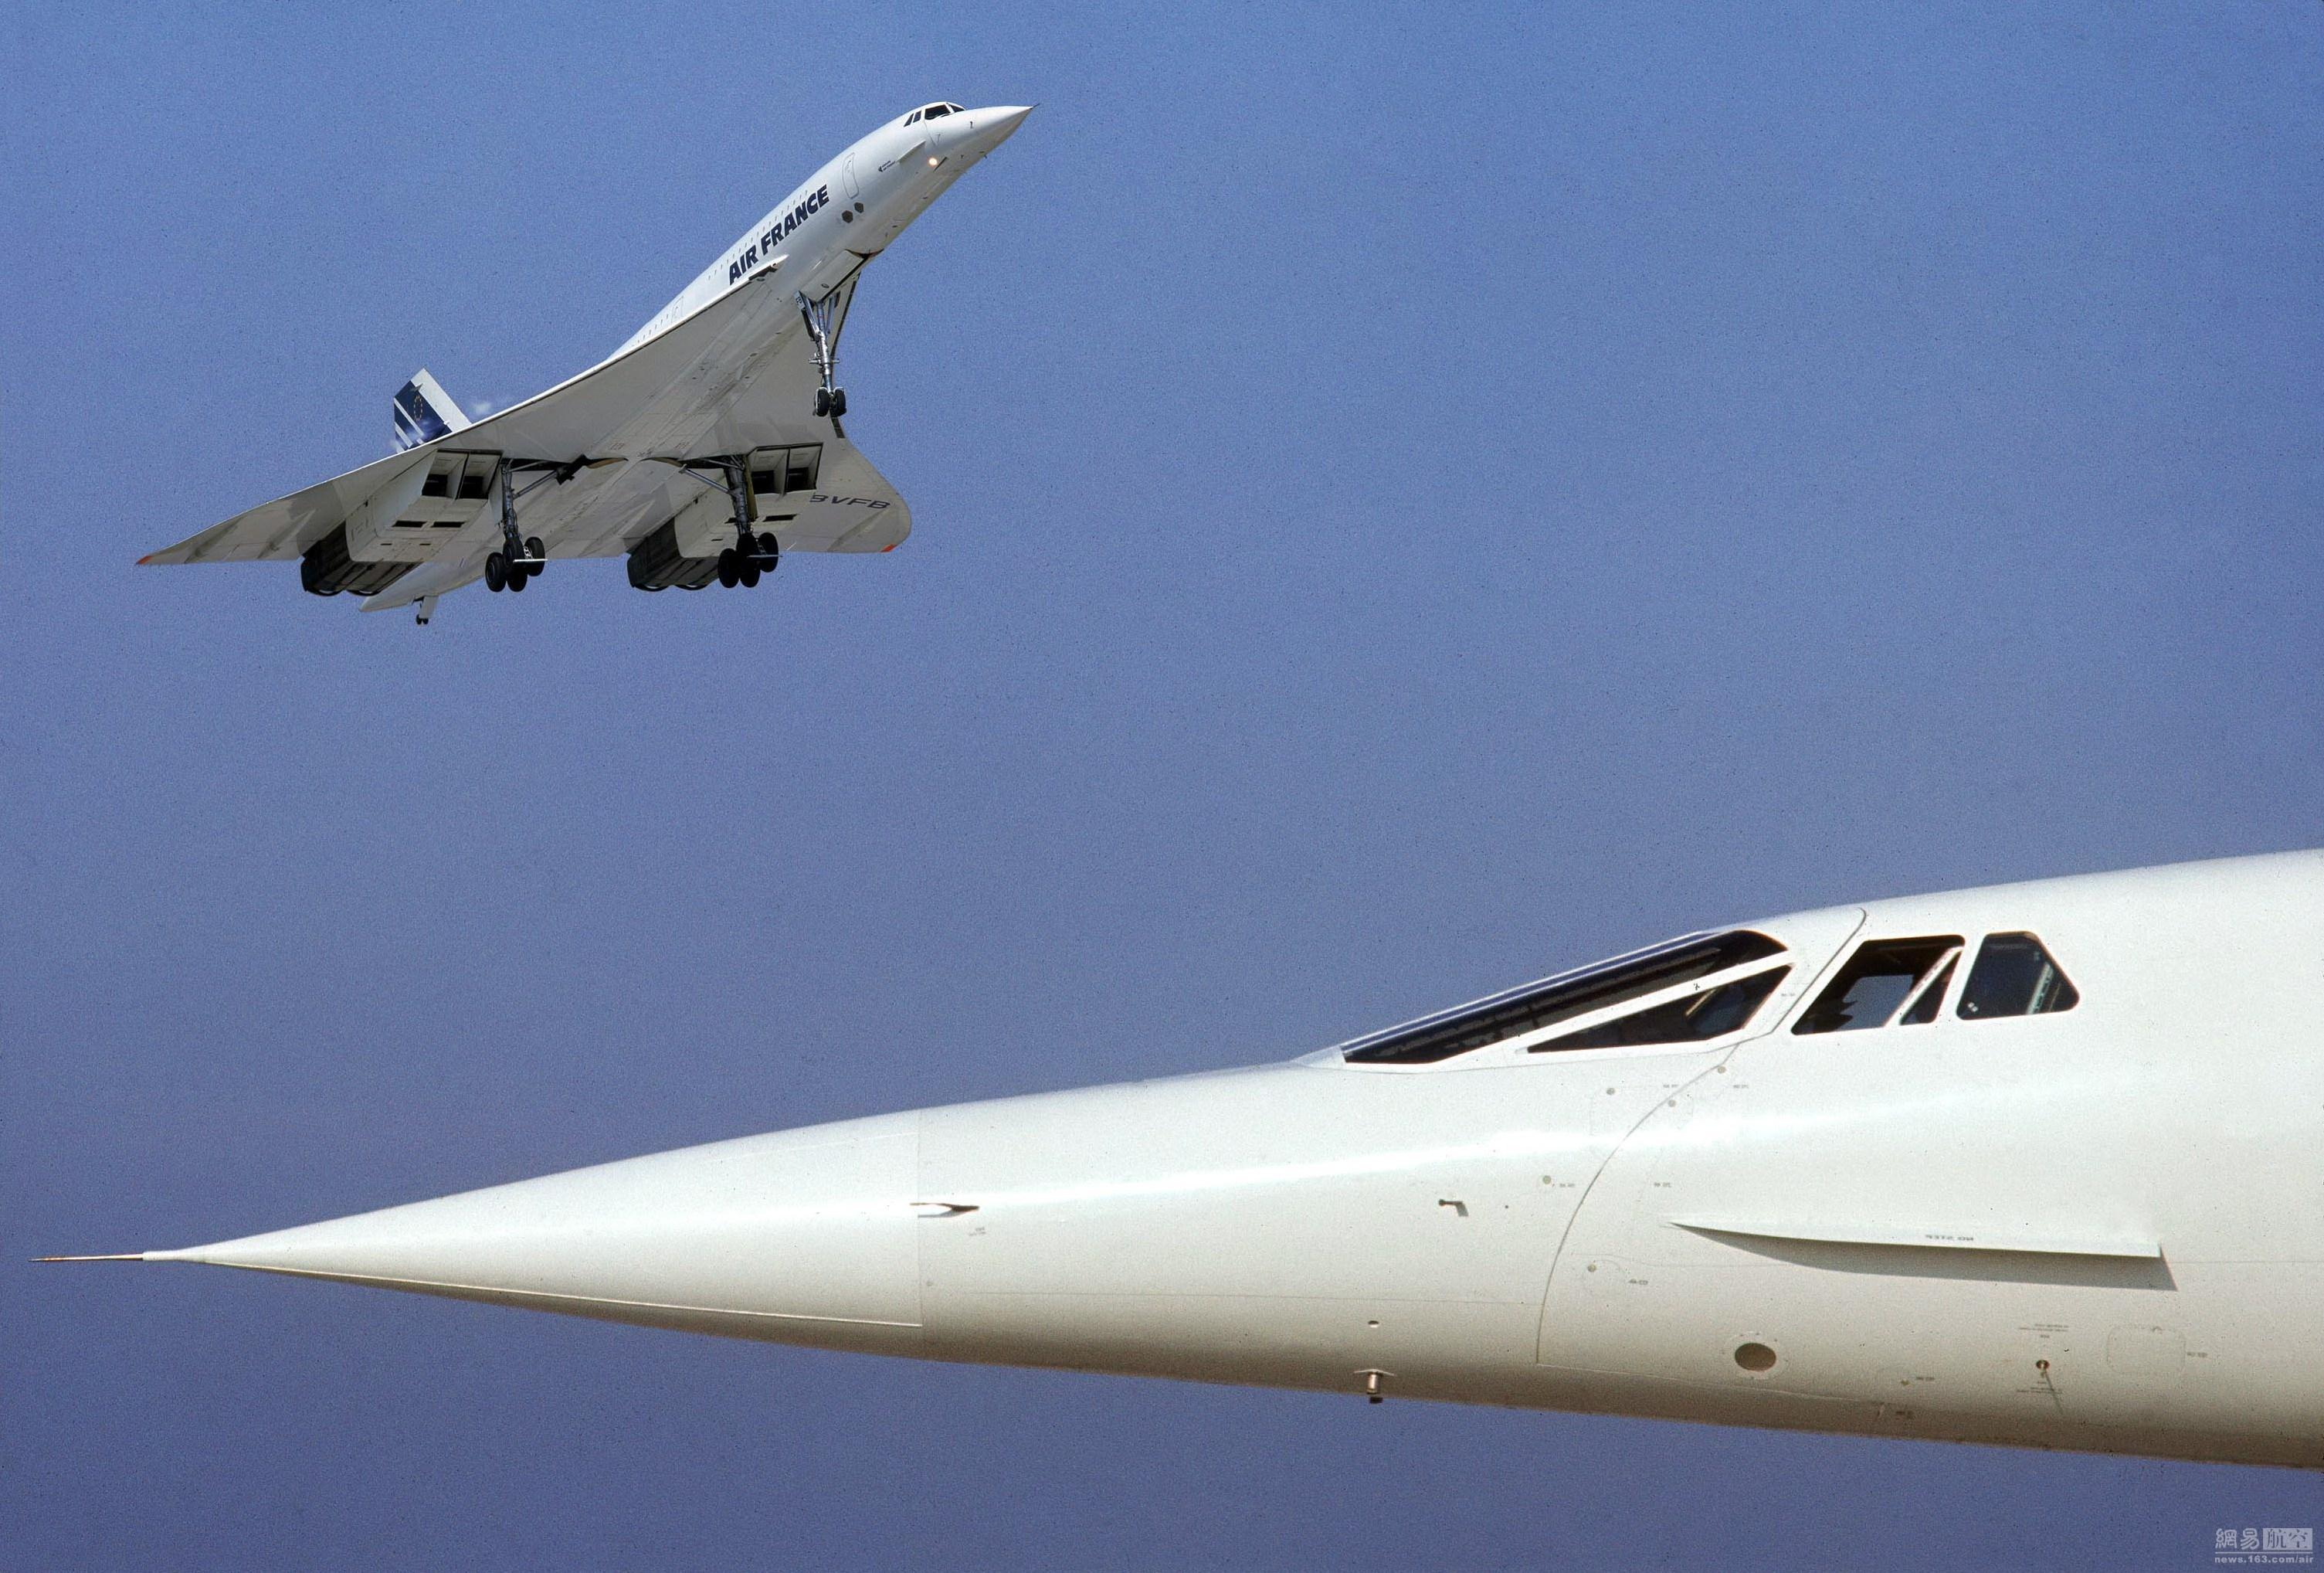airplane: (126, 60, 1104, 644)
